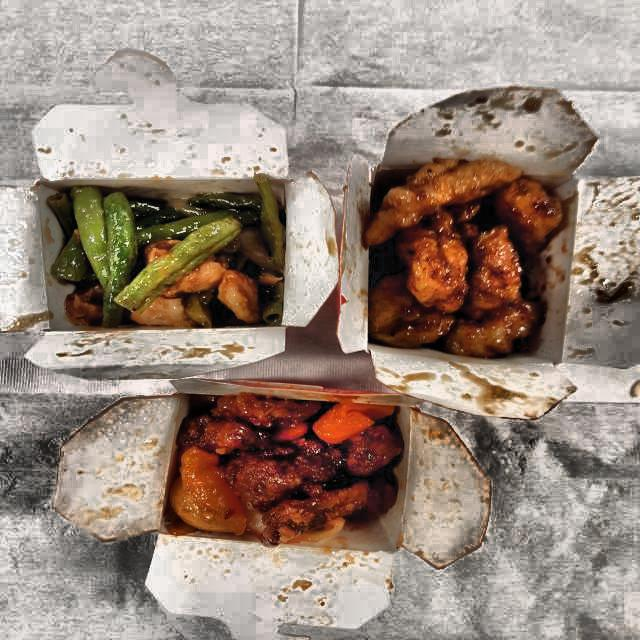Food: (355, 152, 570, 360), (164, 384, 408, 550), (44, 178, 288, 335)
